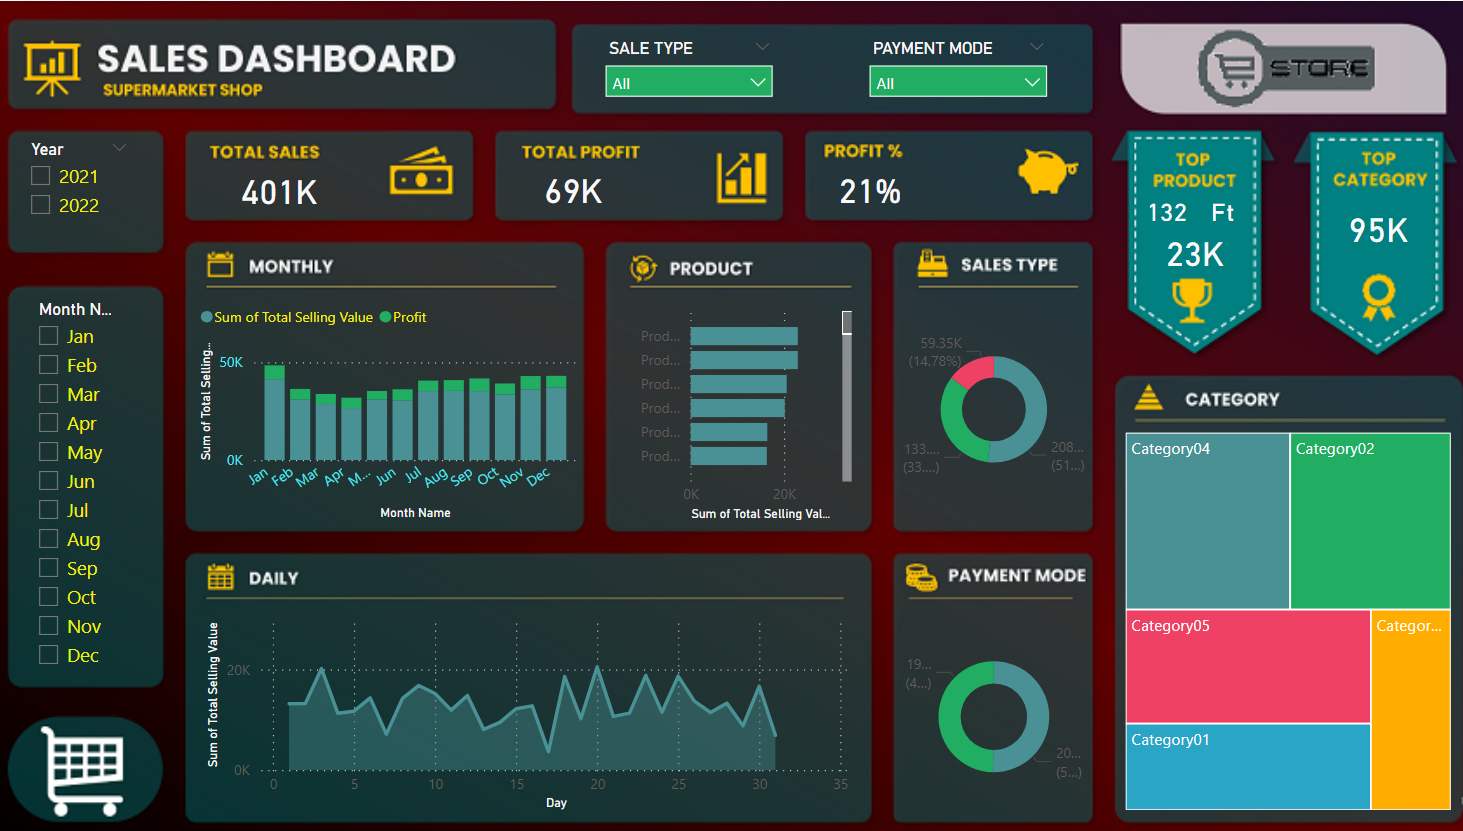

The page's visual inventory and layout, read from the dashboard file:
{"tool":"powerbi","page":{"name":"Page 1","canvas":[1280,720],"ordinal":0},"visuals":[{"type":"slicer","fields":{"Values":["InputData.Year"]},"box":[19.3,115,108,96.6],"z":0},{"type":"slicer","fields":{"Values":["InputData.PAYMENT MODE"]},"box":[744.6,27.2,173,66.7],"z":1000},{"type":"slicer","fields":{"Values":["InputData.SALE TYPE"]},"box":[517.2,27.2,164.2,66.7],"z":2000},{"type":"slicer","fields":{"Values":["InputData.Month Name"]},"box":[25.5,252.9,101.9,336.3],"z":3000},{"type":"card","fields":{"Values":["Sum(InputData.Total Selling Value)"]},"box":[185.3,139.6,121.2,47.4],"z":4000},{"type":"card","fields":{"Values":["InputData.Profit %"]},"box":[701.6,137,107.1,50],"z":5000},{"type":"card","fields":{"Values":["InputData.Profit"]},"box":[450.4,137,96.6,50],"z":6000},{"type":"card","fields":{"Values":["Sum(InputData.QUANTITY)"]},"box":[985.2,167.7,50.9,27.2],"z":7000},{"type":"card","fields":{"Values":["Min(InputData.MasterData.UOM)"]},"box":[1036.1,167.7,45.7,27.2],"z":8000},{"type":"card","fields":{"Values":["Sum(InputData.Total Selling Value)"]},"box":[1004.5,194.9,62.3,43],"z":9000},{"type":"card","fields":{"Values":["Sum(InputData.Total Selling Value)"]},"box":[1148.5,168.6,90.4,52.7],"z":10000},{"type":"columnChart","fields":{"Category":["InputData.Month Name"],"Y":["Sum(InputData.Total Selling Value)","InputData.Profit"]},"box":[172.1,252.9,335.4,199.3],"z":11000},{"type":"clusteredBarChart","fields":{"Y":["Sum(InputData.Total Selling Value)"],"Category":["InputData.MasterData.PRODUCT"]},"box":[535.6,254.6,209,197.6],"z":12000},{"type":"areaChart","fields":{"Y":["Sum(InputData.Total Selling Value)"],"Category":["InputData.Day"]},"box":[178.2,518.9,566.3,182.6],"z":13000},{"type":"donutChart","fields":{"Category":["InputData.SALE TYPE"],"Y":["Sum(InputData.Total Selling Value)"]},"box":[778,252.9,166.8,199.3],"z":14000},{"type":"donutChart","fields":{"Category":["InputData.PAYMENT MODE"],"Y":["Sum(InputData.Total Selling Value)"]},"box":[778,525.1,166.8,183.5],"z":15000},{"type":"treemap","fields":{"Group":["InputData.MasterData.CATEGORY"],"Values":["Sum(InputData.Total Selling Value)"]},"box":[970.2,367,289.8,334.5],"z":16000}]}

Visuals, with their boxes in screenshot pixels (x1, y1, x2, y2), scaled from the page's 1280x720 canvas onto the 1463x831 screenshot:
slicer - InputData.Year: [left=22, top=133, right=145, bottom=244]
slicer - InputData.PAYMENT MODE: [left=851, top=31, right=1049, bottom=108]
slicer - InputData.SALE TYPE: [left=591, top=31, right=779, bottom=108]
slicer - InputData.Month Name: [left=29, top=292, right=146, bottom=680]
card - Sum(InputData.Total Selling Value): [left=212, top=161, right=350, bottom=216]
card - InputData.Profit %: [left=802, top=158, right=924, bottom=216]
card - InputData.Profit: [left=515, top=158, right=625, bottom=216]
card - Sum(InputData.QUANTITY): [left=1126, top=194, right=1184, bottom=225]
card - Min(InputData.MasterData.UOM): [left=1184, top=194, right=1236, bottom=225]
card - Sum(InputData.Total Selling Value): [left=1148, top=225, right=1219, bottom=275]
card - Sum(InputData.Total Selling Value): [left=1313, top=195, right=1416, bottom=255]
columnChart - InputData.Month Name x Sum(InputData.Total Selling Value): [left=197, top=292, right=580, bottom=522]
clusteredBarChart - Sum(InputData.Total Selling Value) x InputData.MasterData.PRODUCT: [left=612, top=294, right=851, bottom=522]
areaChart - Sum(InputData.Total Selling Value) x InputData.Day: [left=204, top=599, right=851, bottom=810]
donutChart - InputData.SALE TYPE x Sum(InputData.Total Selling Value): [left=889, top=292, right=1080, bottom=522]
donutChart - InputData.PAYMENT MODE x Sum(InputData.Total Selling Value): [left=889, top=606, right=1080, bottom=818]
treemap - InputData.MasterData.CATEGORY x Sum(InputData.Total Selling Value): [left=1109, top=424, right=1440, bottom=810]
